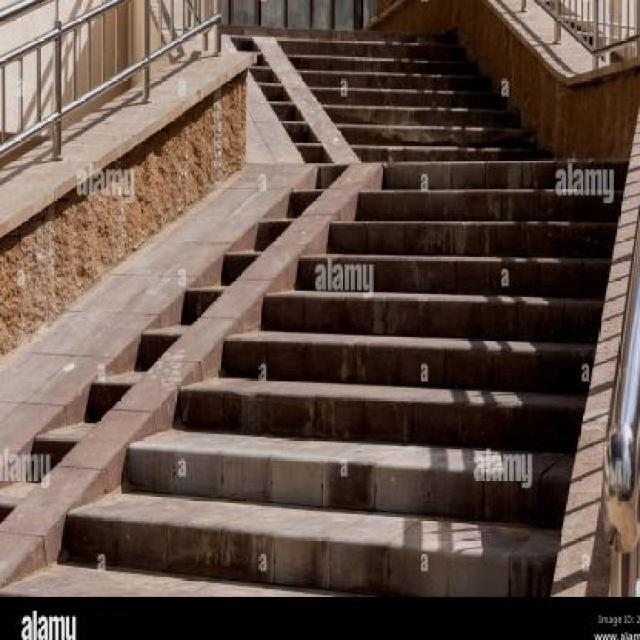stair: (6, 0, 640, 595)
